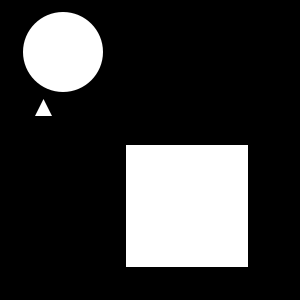circle: (126, 145, 248, 267)
rectangle: (23, 12, 103, 92)
triangle: (35, 99, 52, 116)
